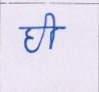i_matra: (45, 12, 57, 49)
